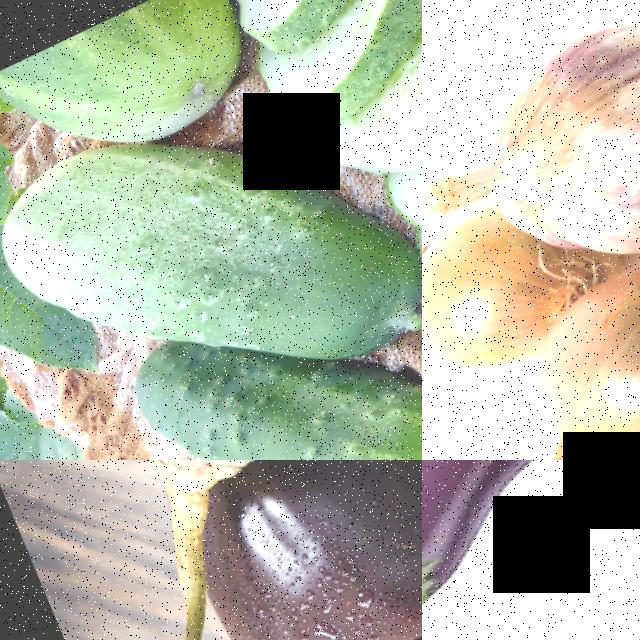cucumber: (0, 50, 422, 460), (151, 322, 422, 460)
eggplant: (166, 460, 422, 640), (422, 460, 640, 629), (31, 460, 422, 508)
garlic: (447, 0, 640, 289)
